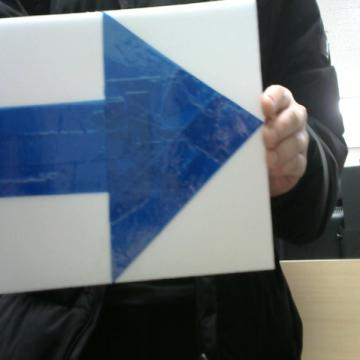blue_right: (0, 14, 260, 279)
